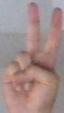V: (1, 1, 64, 113)
